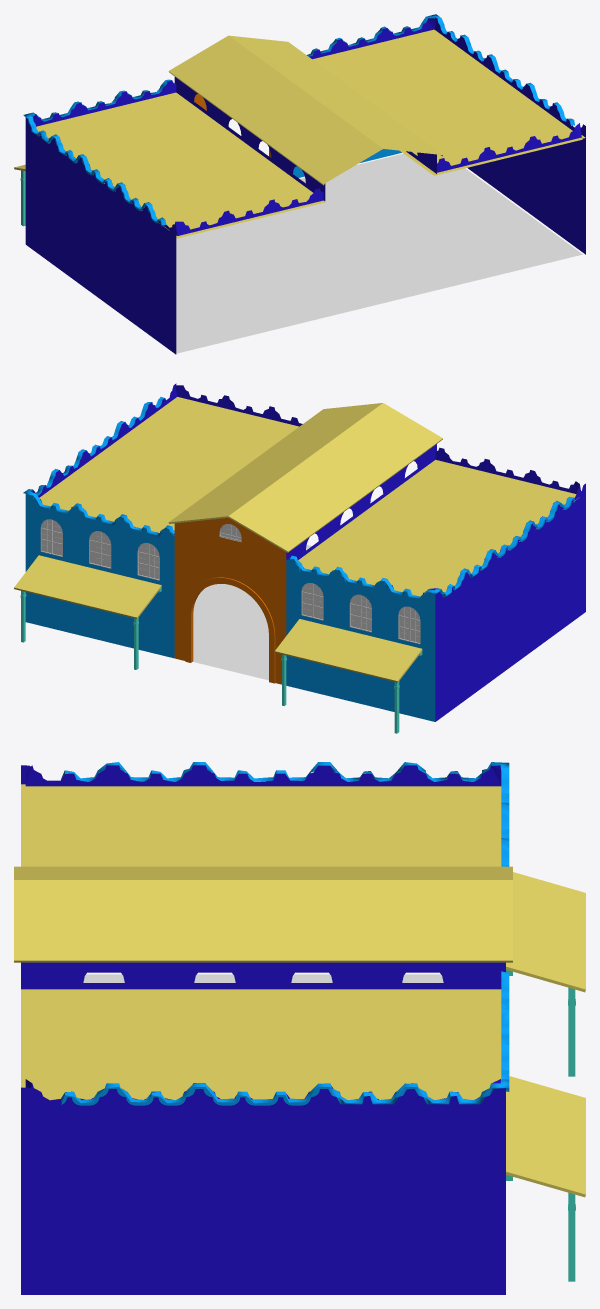
The model's file is market_lod1.fbx.
3 renders of one model, top to bottom at view 1: azimuth 30°, elevation 25°; view 2: azimuth 150°, elevation 25°; view 3: azimuth 270°, elevation 25°, orthographic. The views are drawn at different scales.
Parts seen in each view (by area): view 1: Market_lod1, Market_front_lod1; view 2: Market_lod1, Market_front_lod1; view 3: Market_lod1, Market_front_lod1.
Part boxes in pixels (left/top/right/bottom): Market_lod1: left=25, top=17, right=585, bottom=354; Market_front_lod1: left=14, top=14, right=574, bottom=226; Market_lod1: left=32, top=383, right=585, bottom=721; Market_front_lod1: left=14, top=397, right=574, bottom=733; Market_lod1: left=14, top=765, right=512, bottom=1294; Market_front_lod1: left=60, top=762, right=585, bottom=1281.
Size of the model in its own units: 2773 by 1010 by 2063.
